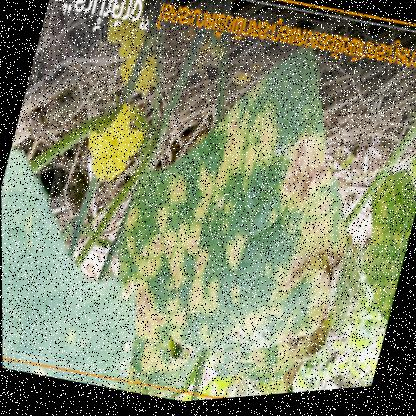DownyMildew: (110, 81, 327, 402), (201, 131, 348, 402)
